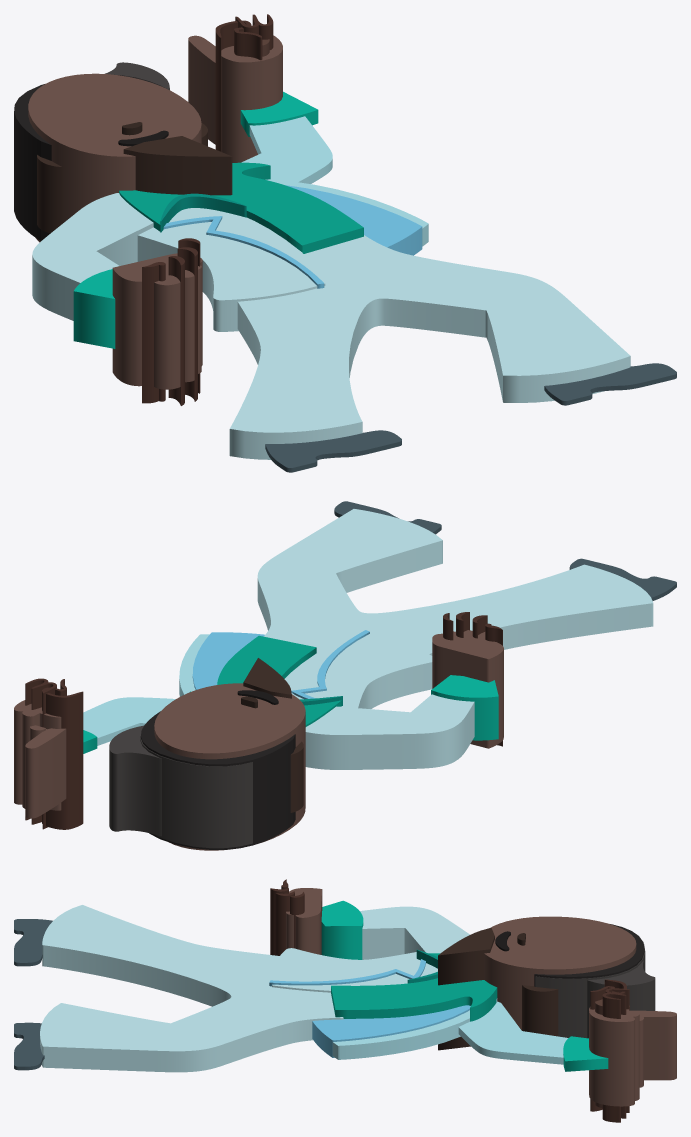
The model's file is emoji_u1f57a_1f3ff.glb.
The picture shows the model from 3 angles, top to bottom: view 1: azimuth 30°, elevation 25°; view 2: azimuth 150°, elevation 25°; view 3: azimuth 270°, elevation 25°; orthographic projection. The views are drawn at different scales.
Parts seen in each view (by area): view 1: emoji_u1f57a_1f3ff; view 2: emoji_u1f57a_1f3ff; view 3: emoji_u1f57a_1f3ff.
Boxes of the visible parts, x1=… form: emoji_u1f57a_1f3ff: x1=14, y1=14, x2=676, y2=472; emoji_u1f57a_1f3ff: x1=14, y1=501, x2=676, y2=850; emoji_u1f57a_1f3ff: x1=14, y1=879, x2=676, y2=1122.
Bounding box in the file's own units: 0.0187 × 0.007 × 0.0342.
